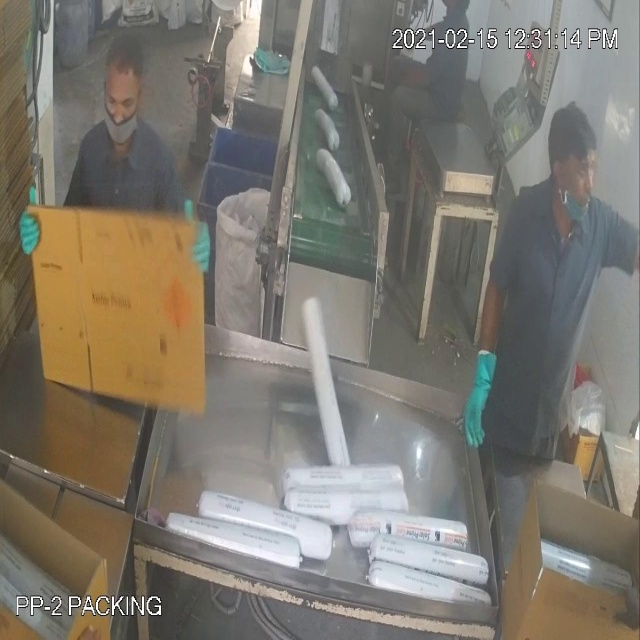Guantes: (452, 331, 501, 470)
